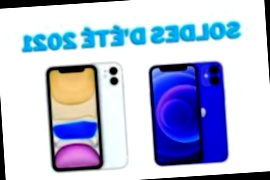iphone: (172, 62, 223, 168), (72, 67, 120, 168)
